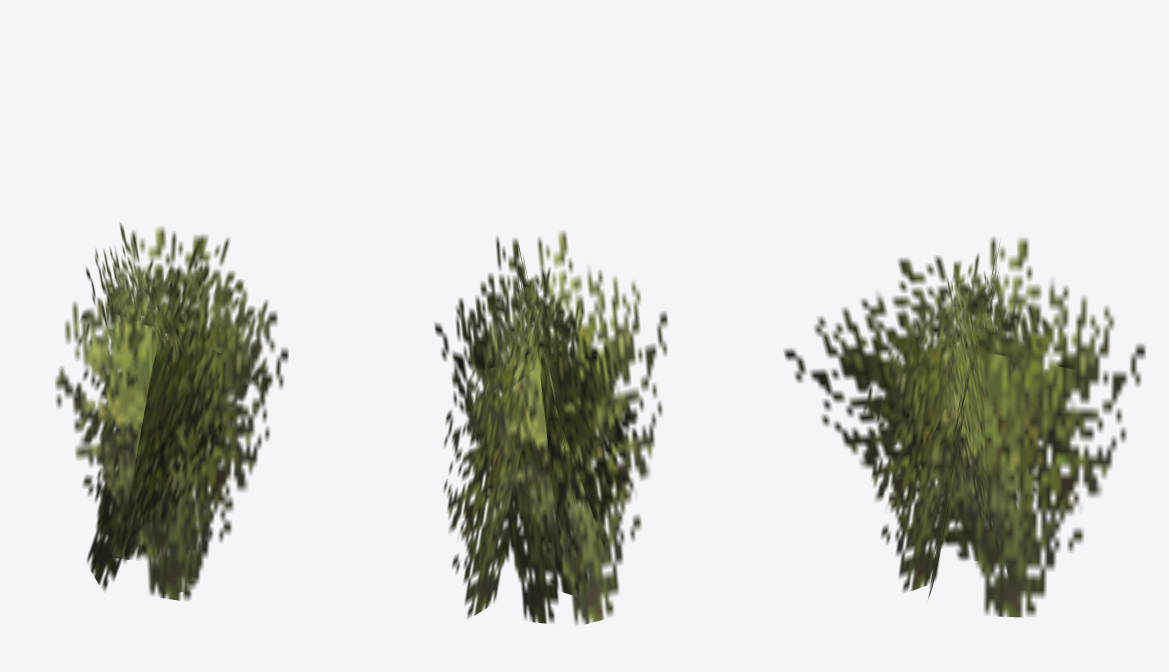
Rendered from plant-11.glb.
The picture shows the model from 3 angles, left to right: view 1: azimuth 30°, elevation 25°; view 2: azimuth 150°, elevation 25°; view 3: azimuth 270°, elevation 25°; orthographic projection. The views are drawn at different scales.
Parts seen in each view (by area): view 1: bush_me_1; view 2: bush_me_1; view 3: bush_me_1.
Part boxes in pixels (x1,y1,x2,y2): bush_me_1: [55, 223, 288, 600]; bush_me_1: [434, 230, 667, 625]; bush_me_1: [784, 237, 1145, 617].
Bounding box in the file's own units: 4.23 × 7.47 × 5.16.
Materials: 1 (1 with a texture image).
